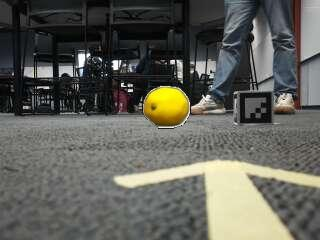lemon: (145, 88, 188, 126)
